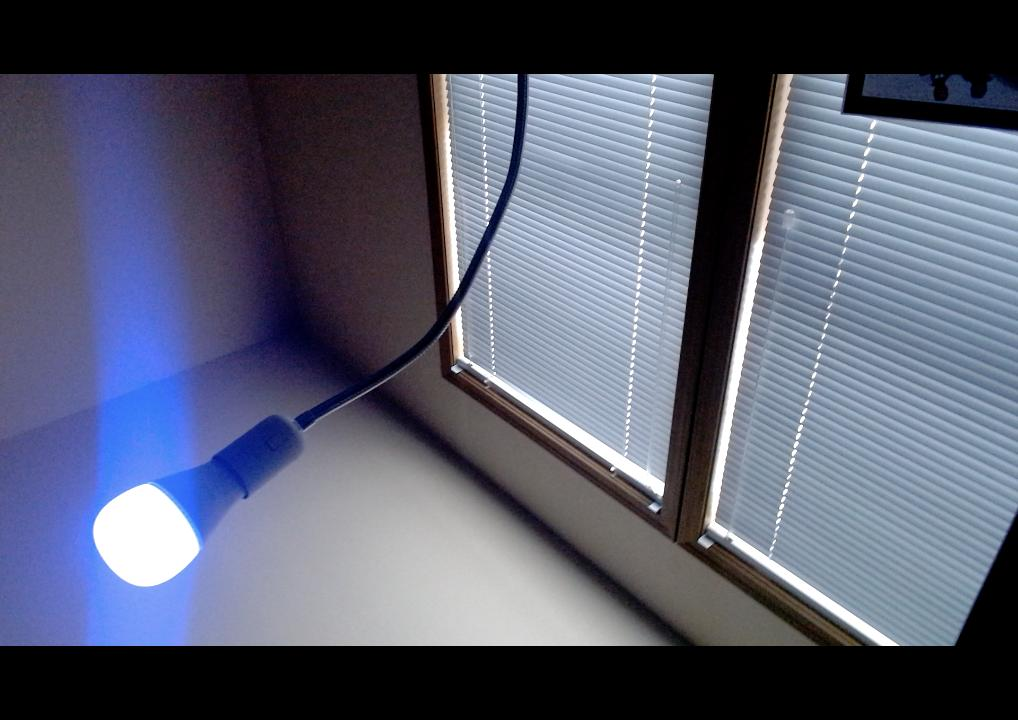TubeLight: (90, 456, 241, 585)
